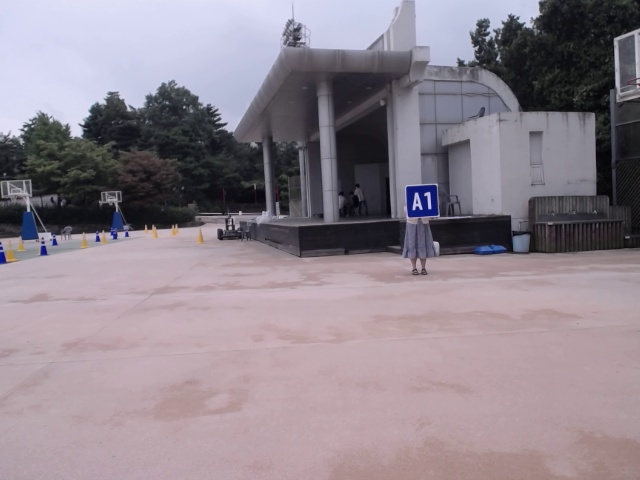delivery_a1: (405, 184, 440, 218)
